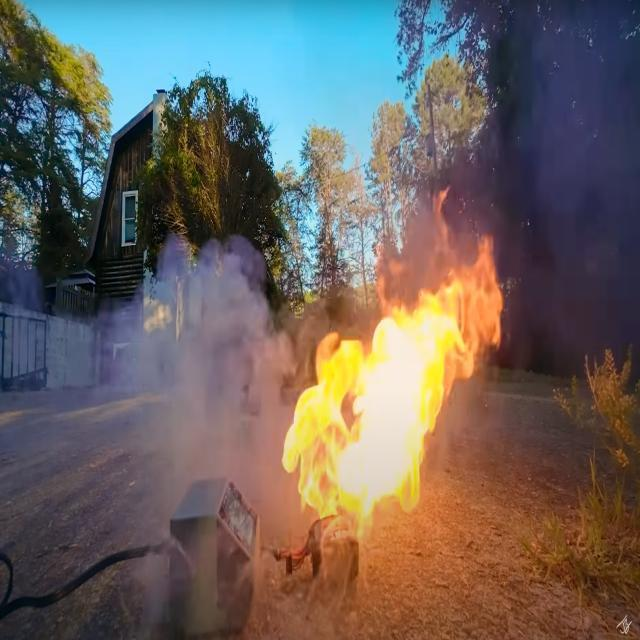Fire: (282, 336, 442, 544), (378, 192, 503, 340)
Smoke: (116, 240, 282, 628)
